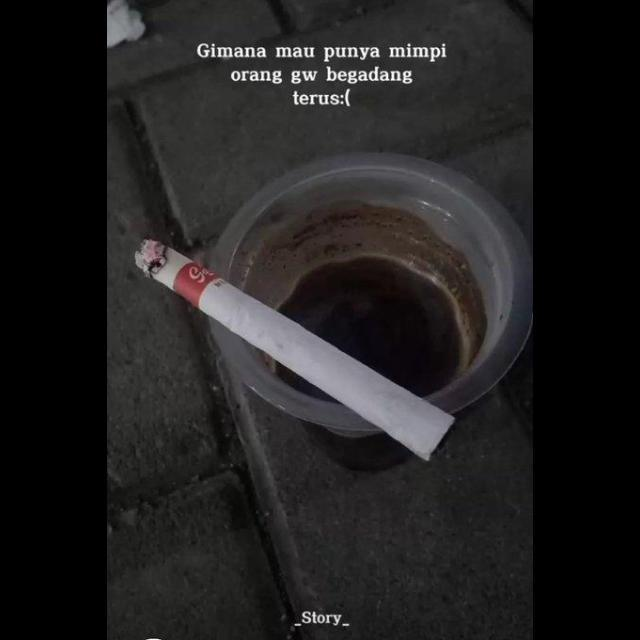rokok: (130, 233, 458, 475)
